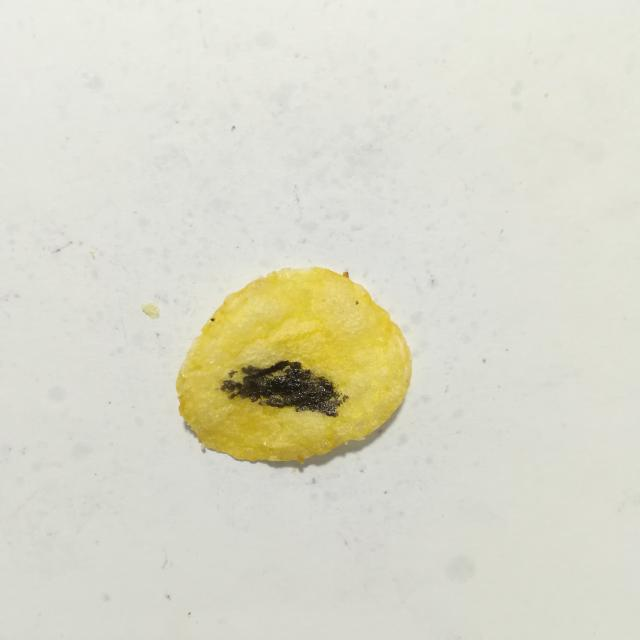chip: (176, 268, 411, 463)
damaged: (221, 360, 343, 416), (228, 369, 238, 378), (342, 395, 349, 402), (210, 317, 215, 321), (355, 300, 359, 305)
